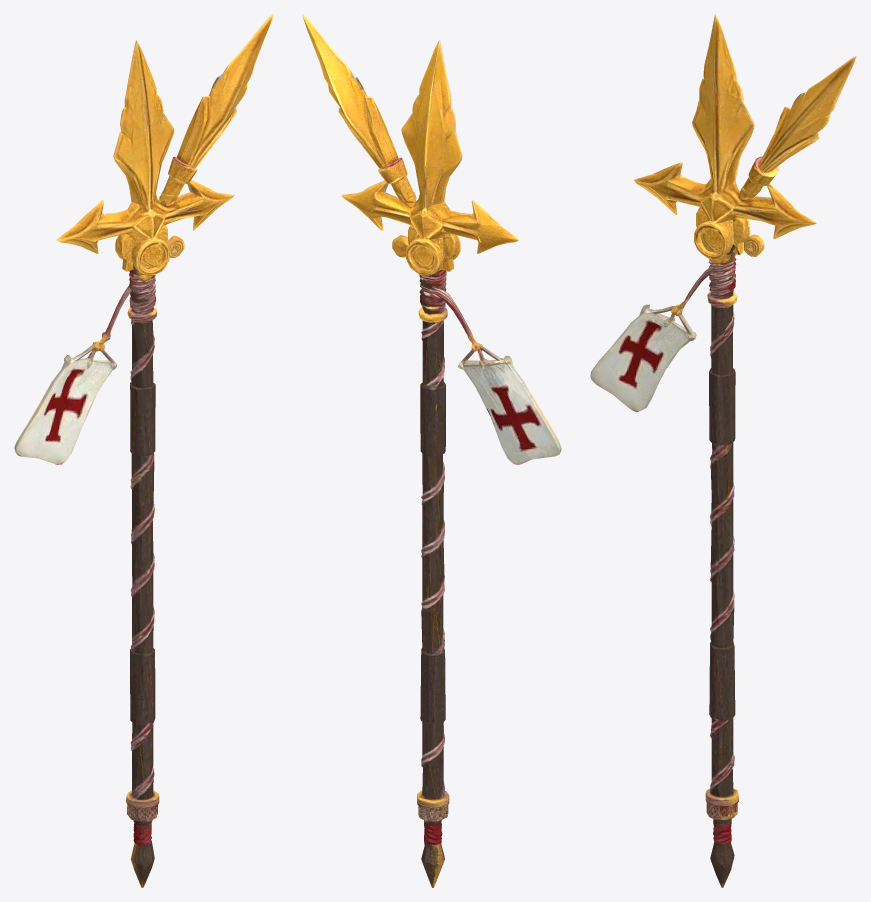
File: lancia.glb
3 views of the same model, side by side, from view 1: azimuth 30°, elevation 25°; view 2: azimuth 150°, elevation 25°; view 3: azimuth 330°, elevation 25° (orthographic). The views are drawn at different scales.
Size of the model in its own units: 0.6035 by 1.9 by 0.0944.
Materials: 1 (1 with a texture image).
